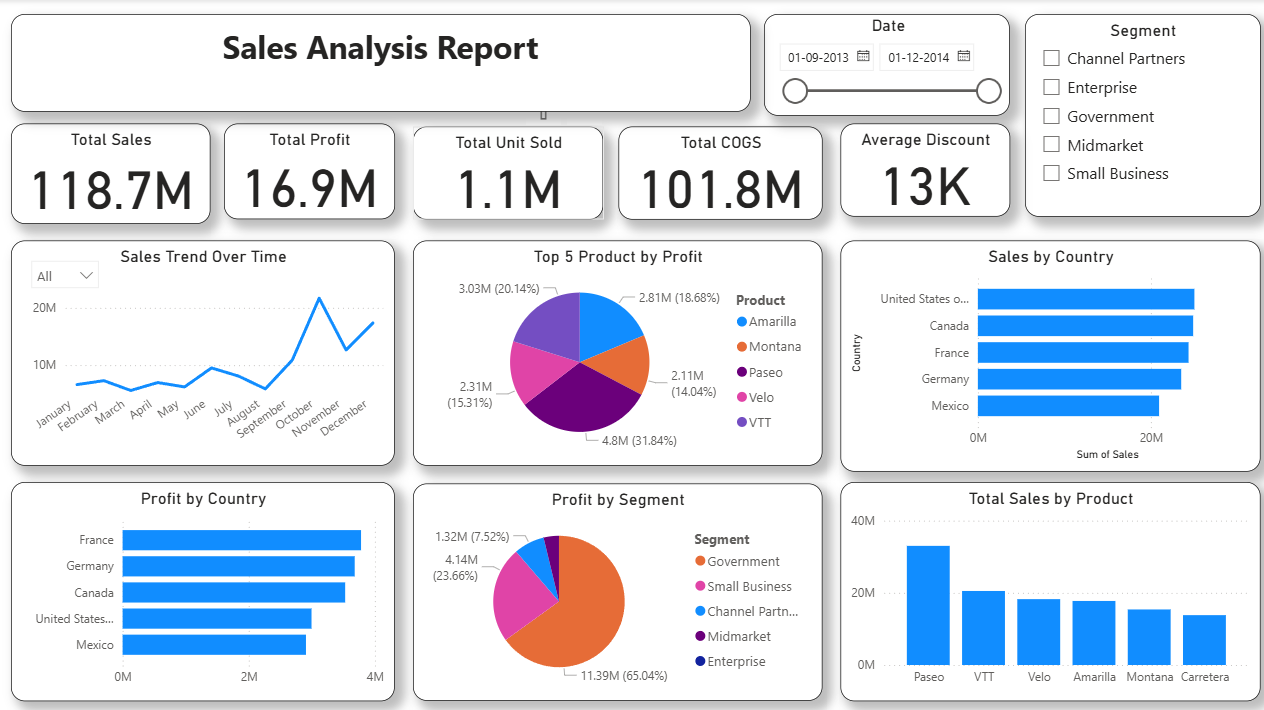

What the dashboard file says about the page in this screenshot:
{"tool":"powerbi","page":{"name":"Report","canvas":[1280,720],"ordinal":0},"visuals":[{"type":"card","title":"Total Sales","fields":{"Values":["Sum(Table2. Sales)"]},"box":[12.1,125.7,201.4,101.5],"z":0},{"type":"card","title":"Total Profit","fields":{"Values":["Sum(Table2.Profit)"]},"box":[227.1,125.7,172.6,96.9],"z":1000},{"type":"card","title":"Total Unit Sold","fields":{"Values":["Sum(Table2.Units Sold)"]},"box":[417.9,128.7,192.3,93.9],"z":2000},{"type":"card","title":"Total COGS","fields":{"Values":["Sum(Table2.COGS)"]},"box":[625.4,128.7,205.9,93.9],"z":3000},{"type":"slicer","title":"Date","fields":{"Values":["Table2.Date"]},"box":[772.2,15.1,248.3,103],"z":4000},{"type":"barChart","title":"Sales by Country","fields":{"Category":["Table2.Country"],"Y":["Sum(Table2. Sales)"]},"box":[849.5,243.8,424,233.2],"z":5000},{"type":"slicer","title":"Segment","fields":{"Values":["Table2.Segment"]},"box":[1035.7,15.1,237.7,204.4],"z":6000},{"type":"barChart","title":"Profit by Country","fields":{"Y":["Sum(Table2.Profit)"],"Category":["Table2.Country"]},"box":[12.1,487.6,387.6,221.1],"z":8001},{"type":"pieChart","title":"Profit by Segment","fields":{"Y":["Sum(Table2.Profit)"],"Category":["Table2.Segment"]},"box":[417.9,489.1,413.4,219.6],"z":8002},{"type":"textbox","box":[12.1,15.1,746.5,98.4],"z":8003},{"type":"pieChart","title":"Top 5 Product by Profit","fields":{"Series":["Table2.Product"],"Y":["Sum(Table2.Profit)"]},"box":[417.9,243.8,413.4,227.1],"z":8004},{"type":"columnChart","title":"Total Sales by Product","fields":{"Category":["Table2.Product"],"Y":["Sum(Table2. Sales)"]},"box":[849.5,487.6,424,221.1],"z":8005},{"type":"card","title":"Average Discount","fields":{"Values":["Avg(Table2.Discounts)"]},"box":[849.5,125.7,171.1,93.9],"z":8006},{"type":"lineChart","title":"Sales Trend Over Time","fields":{"Y":["Sum(Table2. Sales)"],"Category":["Table2.Date.Variation.Date Hierarchy.Month"]},"box":[12.1,243.8,387.6,227.1],"z":8007},{"type":"slicer","fields":{"Values":["Table2.Year"]},"box":[22.7,254.4,88,37.9],"z":8009}]}

Visuals, with their boxes in screenshot pixels (x1, y1, x2, y2), scaled from the page's 1280x720 canvas onto the 1264x710 screenshot:
"Total Sales" card: BBox(12, 124, 211, 224)
"Total Profit" card: BBox(224, 124, 395, 220)
"Total Unit Sold" card: BBox(413, 127, 603, 220)
"Total COGS" card: BBox(618, 127, 821, 220)
"Date" slicer: BBox(763, 15, 1008, 116)
"Sales by Country" barChart: BBox(839, 240, 1258, 470)
"Segment" slicer: BBox(1023, 15, 1257, 216)
"Profit by Country" barChart: BBox(12, 481, 395, 699)
"Profit by Segment" pieChart: BBox(413, 482, 821, 699)
textbox: BBox(12, 15, 749, 112)
"Top 5 Product by Profit" pieChart: BBox(413, 240, 821, 464)
"Total Sales by Product" columnChart: BBox(839, 481, 1258, 699)
"Average Discount" card: BBox(839, 124, 1008, 217)
"Sales Trend Over Time" lineChart: BBox(12, 240, 395, 464)
slicer - Table2.Year: BBox(22, 251, 109, 288)
